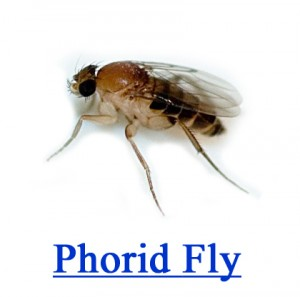phorid fly: (41, 43, 280, 222)
